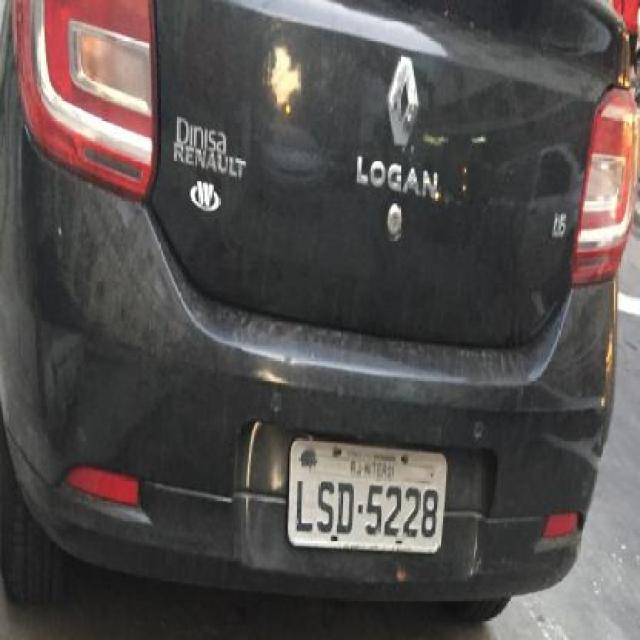old_plate: (280, 433, 456, 559)
